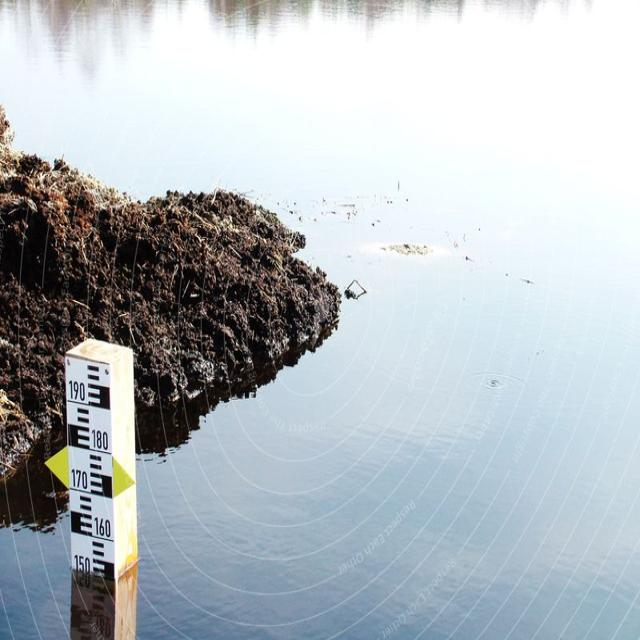ruler: (53, 322, 150, 582)
value: (67, 464, 94, 494), (92, 512, 118, 543), (68, 550, 94, 576), (89, 424, 112, 453), (66, 378, 90, 405)
